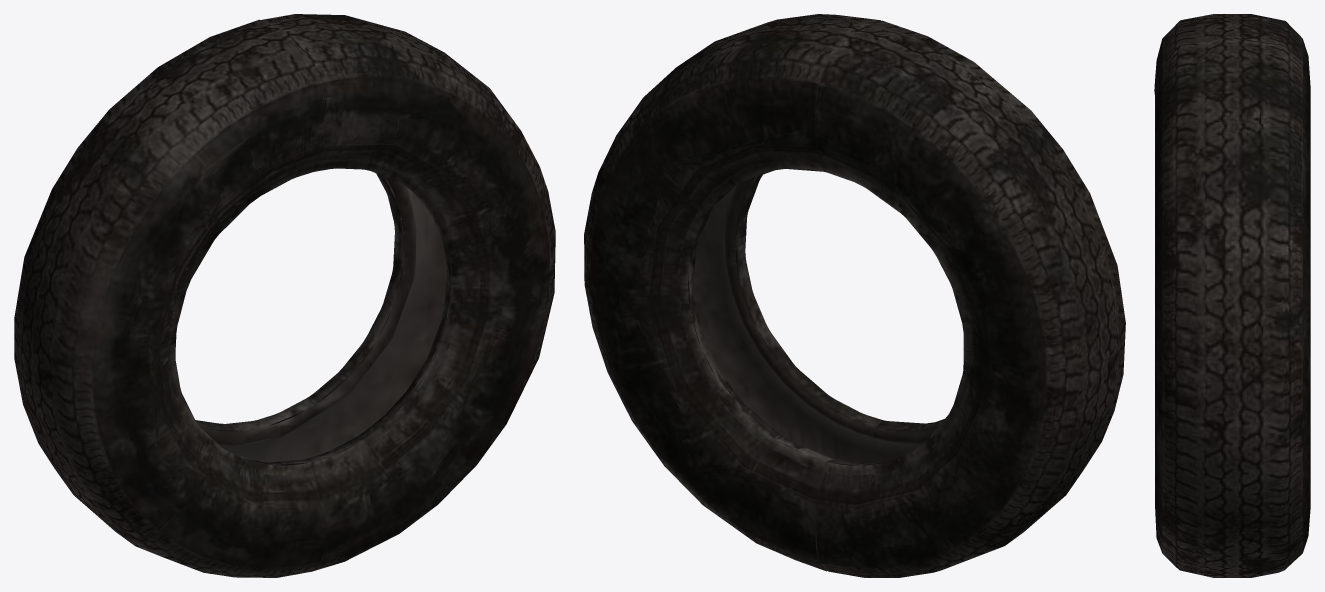
Rendered from tyre.glb.
3 renders of one model, left to right at view 1: azimuth 30°, elevation 25°; view 2: azimuth 150°, elevation 25°; view 3: azimuth 270°, elevation 25°, orthographic. The views are drawn at different scales.
Visible parts, largest first — view 1: old_tyre; view 2: old_tyre; view 3: old_tyre.
Part boxes in pixels (x1,y1,x2,y2): old_tyre: (14, 14, 555, 577); old_tyre: (584, 14, 1125, 577); old_tyre: (1154, 14, 1310, 577).
Size of the model in its own units: 0.6002 by 0.6035 by 0.1656.
1 material, 1 textured.
